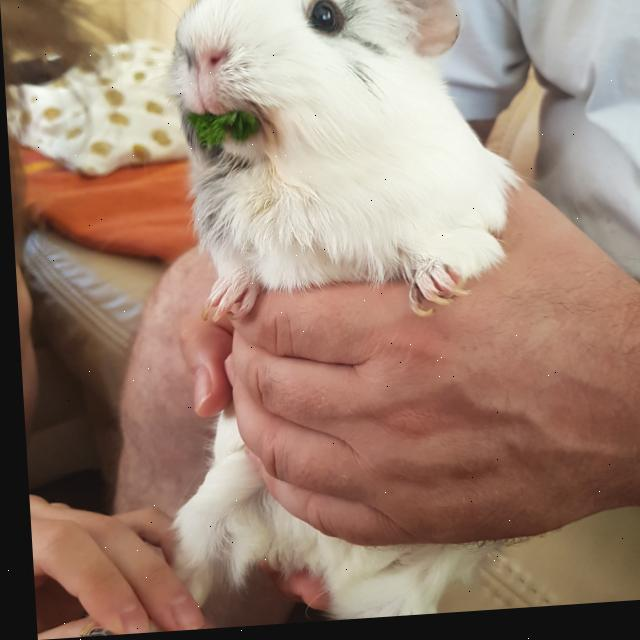guinea pig: (147, 0, 537, 630)
